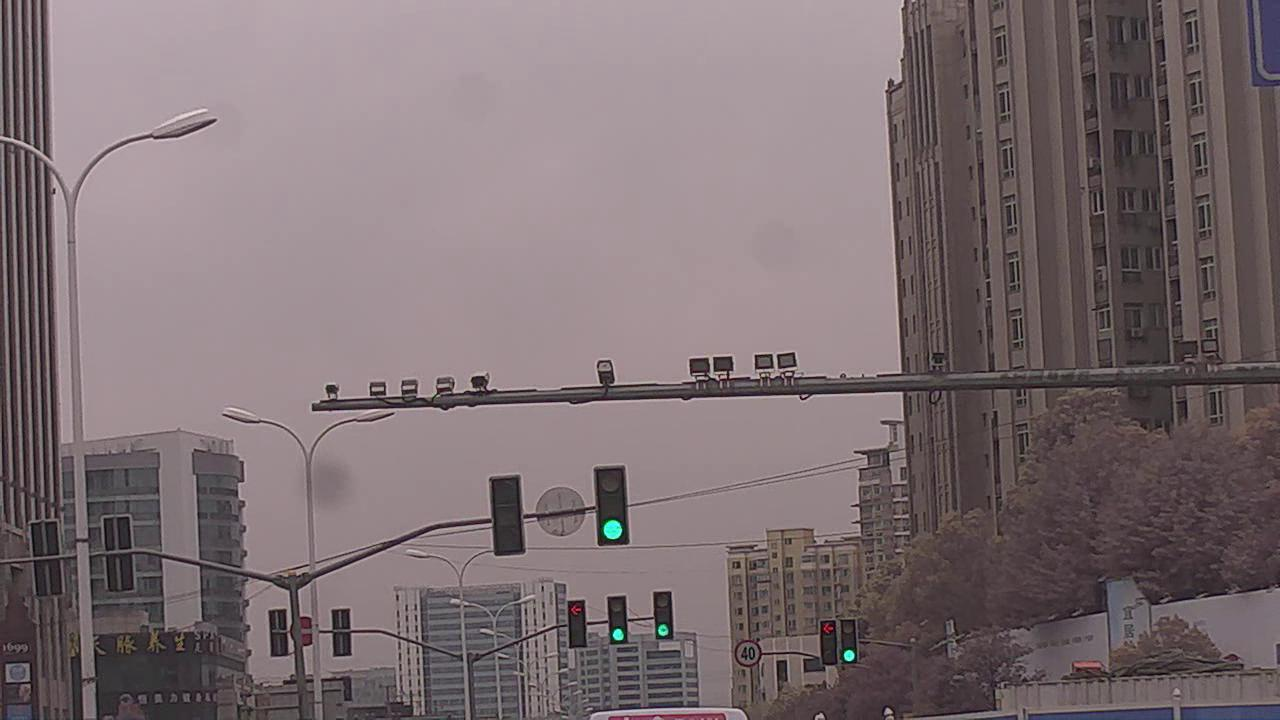traffic_light: (490, 473, 530, 559), (594, 464, 634, 547), (652, 591, 676, 642), (567, 598, 586, 647), (608, 594, 626, 645), (820, 618, 837, 668), (841, 617, 858, 661)
